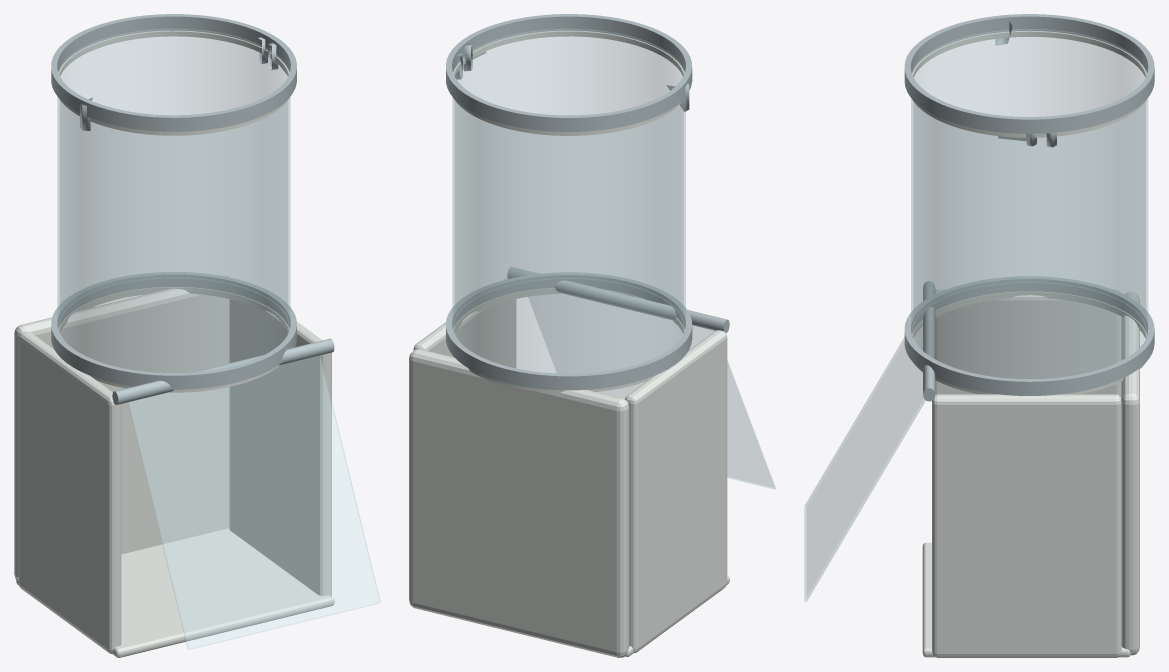
Rendered from FruitPipe.fbx.
3 renders of one model, left to right at view 1: azimuth 30°, elevation 25°; view 2: azimuth 150°, elevation 25°; view 3: azimuth 270°, elevation 25°, orthographic.
Visible parts, largest first — view 1: GlassTube, OutletFlap, RearGuard, SideGuard, SideGuard.001, OutletLip, UpperClamp, LowerClamp, UpperSeal, LowerSeal, FlapHinge, Delivered clamp latch; view 2: GlassTube, RearGuard, SideGuard, OutletFlap, UpperClamp, LowerClamp, SideGuard.001, FlapHinge, UpperSeal, LowerSeal, Delivered clamp latch; view 3: GlassTube, SideGuard.001, SideGuard, OutletFlap, UpperClamp, LowerClamp, RearGuard, UpperSeal, LowerSeal, OutletLip, FlapHinge, Delivered clamp latch.
Part boxes in pixels (box(x1,y1,x2,y2)): GlassTube: box(57, 29, 290, 372); OutletFlap: box(128, 355, 380, 649); RearGuard: box(14, 276, 229, 579); SideGuard: box(18, 331, 121, 653); SideGuard.001: box(229, 299, 331, 596); OutletLip: box(16, 528, 334, 657); UpperClamp: box(51, 14, 296, 131); LowerClamp: box(51, 272, 296, 389); UpperSeal: box(58, 30, 289, 135); LowerSeal: box(58, 287, 289, 392); FlapHinge: box(112, 338, 334, 404); Delivered clamp latch: box(80, 37, 285, 130); GlassTube: box(452, 29, 685, 373); RearGuard: box(409, 349, 629, 657); SideGuard: box(625, 330, 727, 652); OutletFlap: box(528, 294, 775, 489); UpperClamp: box(446, 14, 692, 131); LowerClamp: box(446, 272, 692, 390); SideGuard.001: box(413, 279, 516, 367); FlapHinge: box(507, 267, 729, 333); UpperSeal: box(453, 30, 684, 135); LowerSeal: box(453, 288, 684, 393); Delivered clamp latch: box(455, 43, 689, 111); GlassTube: box(911, 29, 1147, 378); SideGuard.001: box(932, 394, 1121, 657); SideGuard: box(935, 290, 1121, 399); OutletFlap: box(804, 327, 925, 601); UpperClamp: box(904, 14, 1154, 133); LowerClamp: box(904, 276, 1154, 395); RearGuard: box(1121, 292, 1139, 655); UpperSeal: box(912, 30, 1146, 137); LowerSeal: box(912, 291, 1146, 394); OutletLip: box(922, 542, 1130, 657); FlapHinge: box(923, 281, 935, 401); Delivered clamp latch: box(995, 21, 1056, 147).
Size of the model in its own units: 0.9648 by 2.18 by 1.29.
